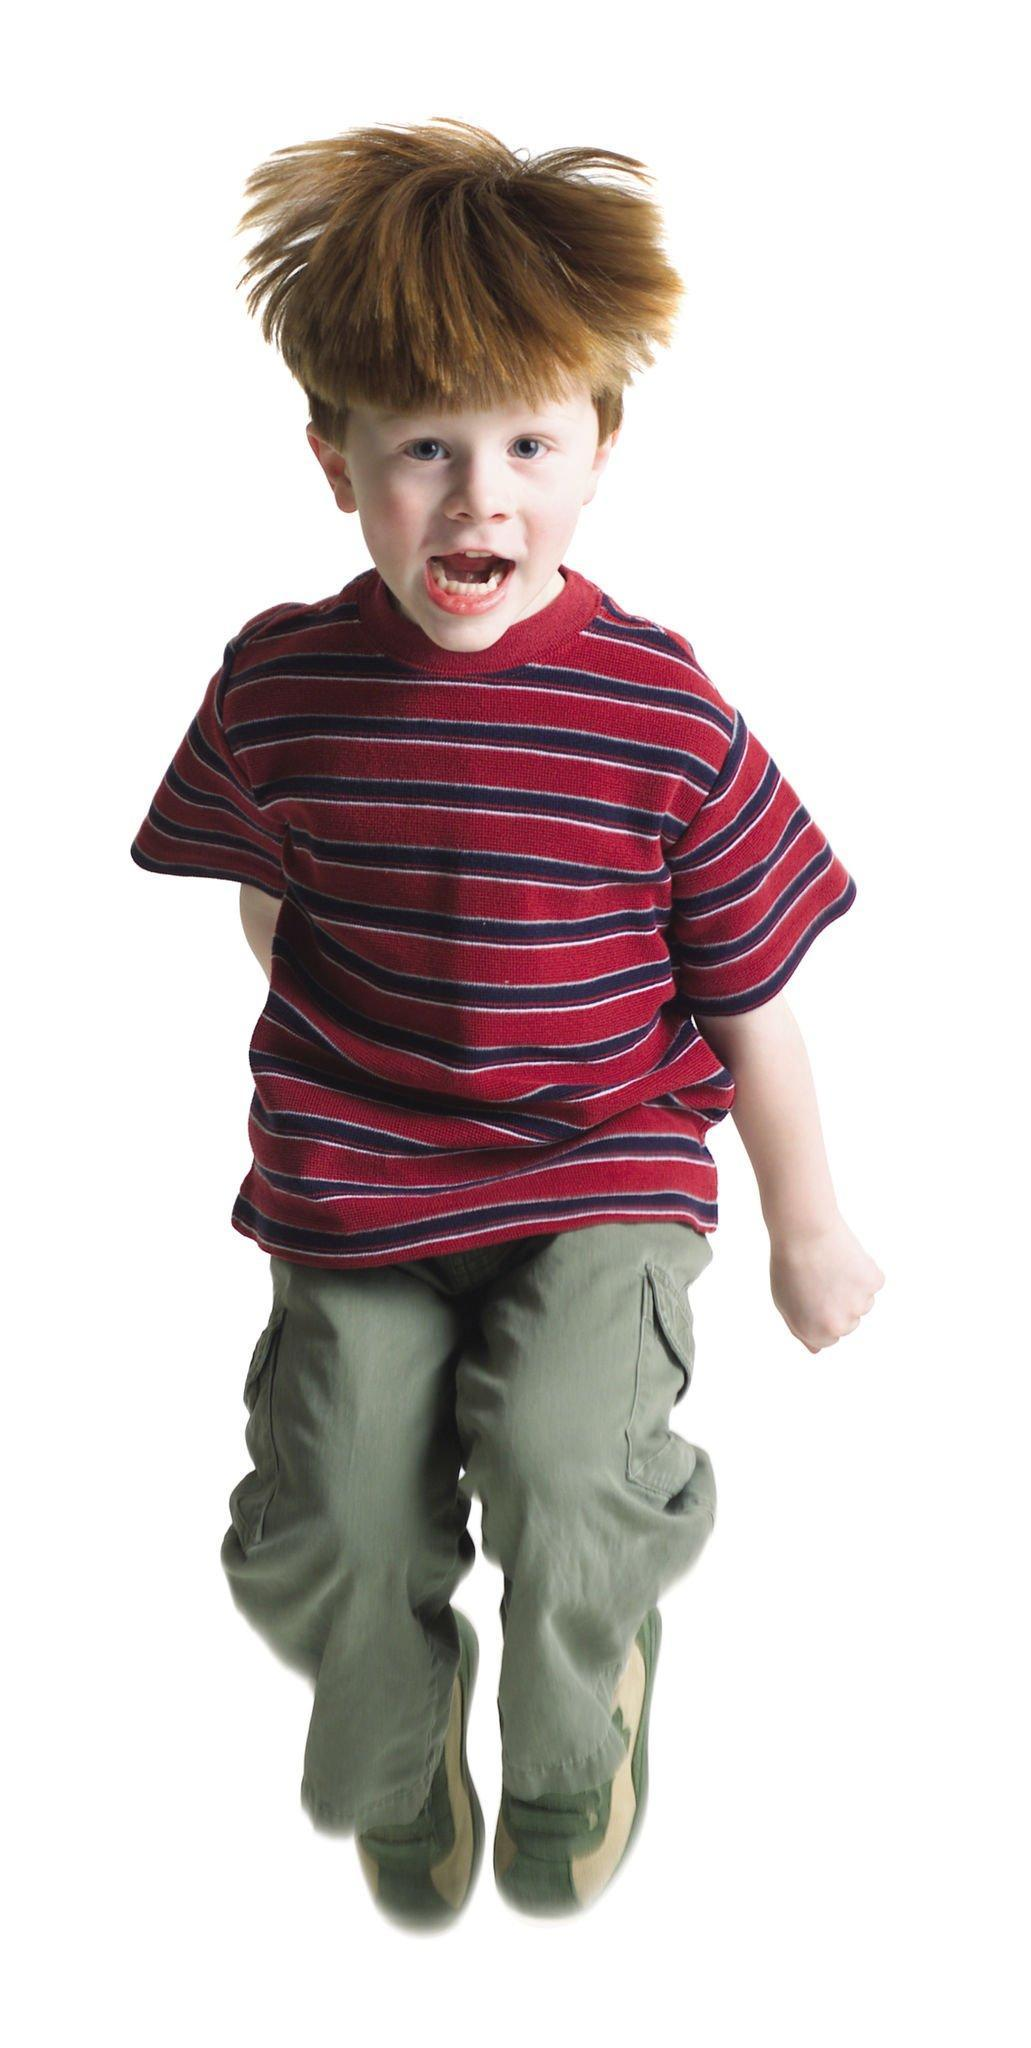Healthy: (300, 262, 644, 656)
